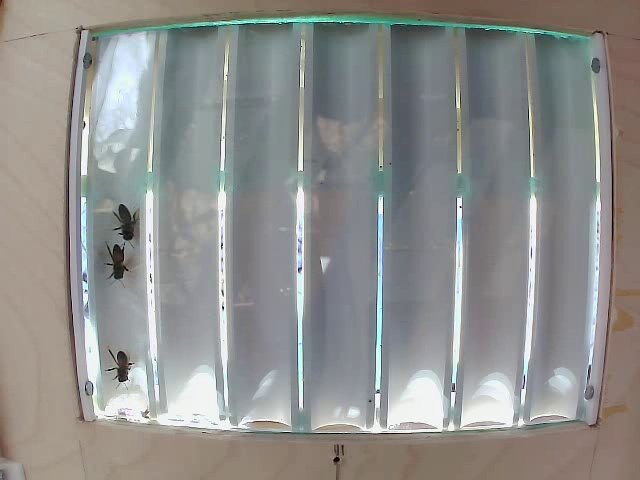bee: (107, 349, 155, 398), (112, 190, 152, 248), (98, 236, 139, 283)
